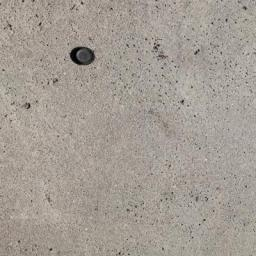FOD: (68, 44, 98, 68)
